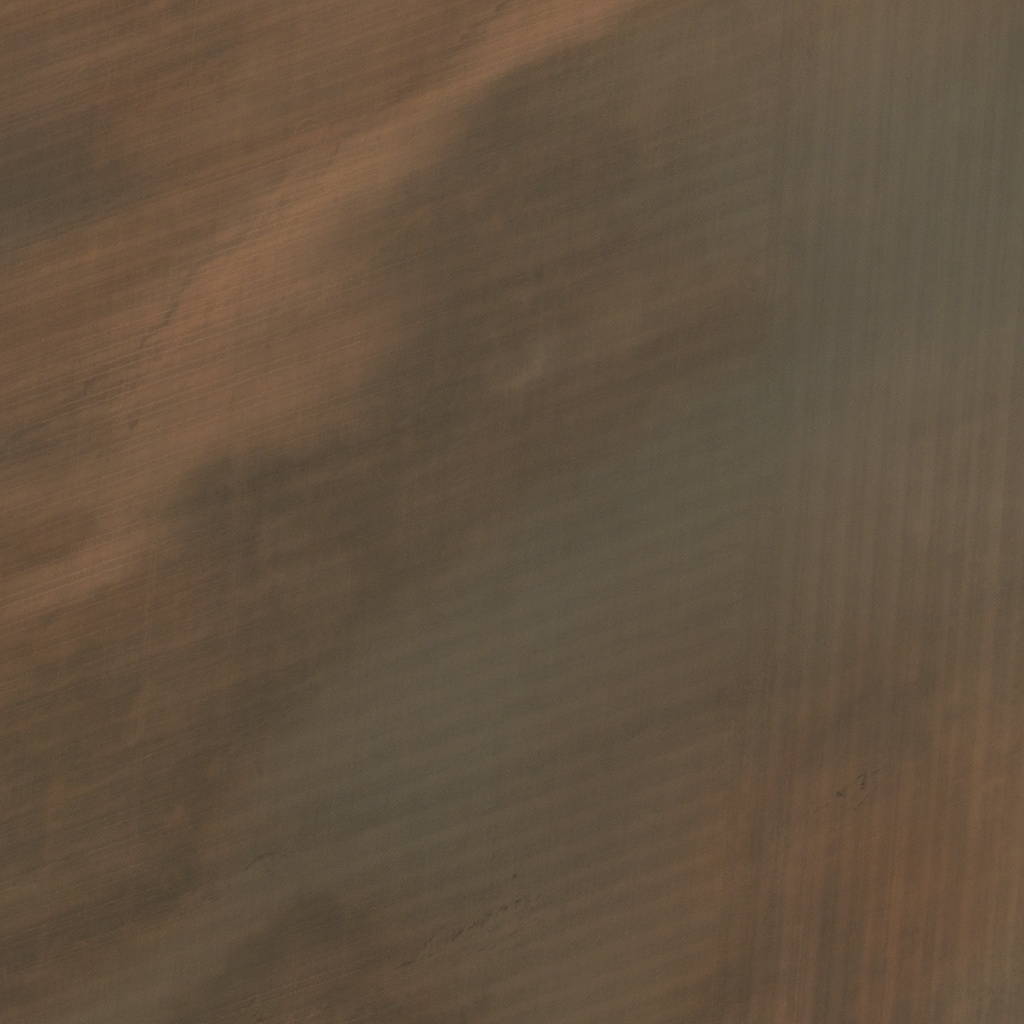4 un-classified: (756, 915, 768, 927)
